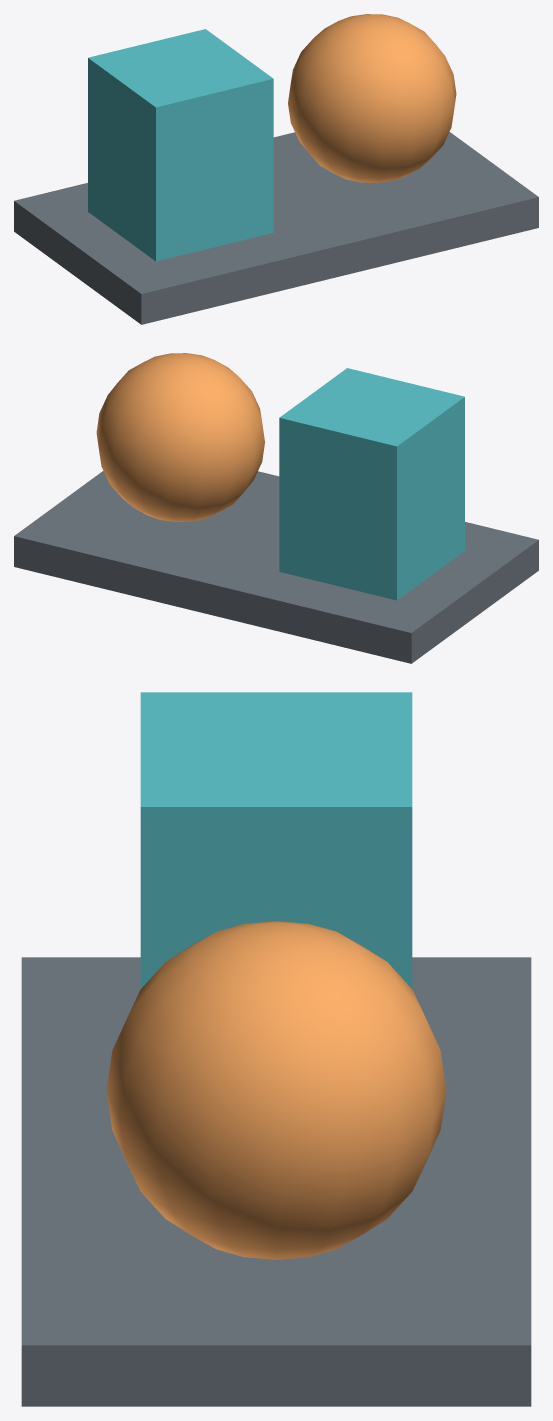
Rendered from semantic-labels.glb.
3 renders of one model, top to bottom at view 1: azimuth 30°, elevation 25°; view 2: azimuth 150°, elevation 25°; view 3: azimuth 270°, elevation 25°, orthographic. The views are drawn at different scales.
Parts seen in each view (by area): view 1: /Objects/Display, /Objects/Box, /Objects/Ball; view 2: /Objects/Display, /Objects/Box, /Objects/Ball; view 3: /Objects/Display, /Objects/Ball, /Objects/Box.
Part boxes in pixels (bbox=[...]): /Objects/Display: bbox=[14, 132, 538, 324]; /Objects/Box: bbox=[88, 29, 273, 261]; /Objects/Ball: bbox=[288, 14, 456, 182]; /Objects/Display: bbox=[14, 471, 538, 663]; /Objects/Box: bbox=[279, 368, 464, 600]; /Objects/Ball: bbox=[96, 353, 264, 521]; /Objects/Display: bbox=[21, 957, 531, 1406]; /Objects/Ball: bbox=[106, 921, 446, 1259]; /Objects/Box: bbox=[140, 692, 412, 988].
Bounding box in the file's own units: 2.7 × 1.2 × 1.5.
